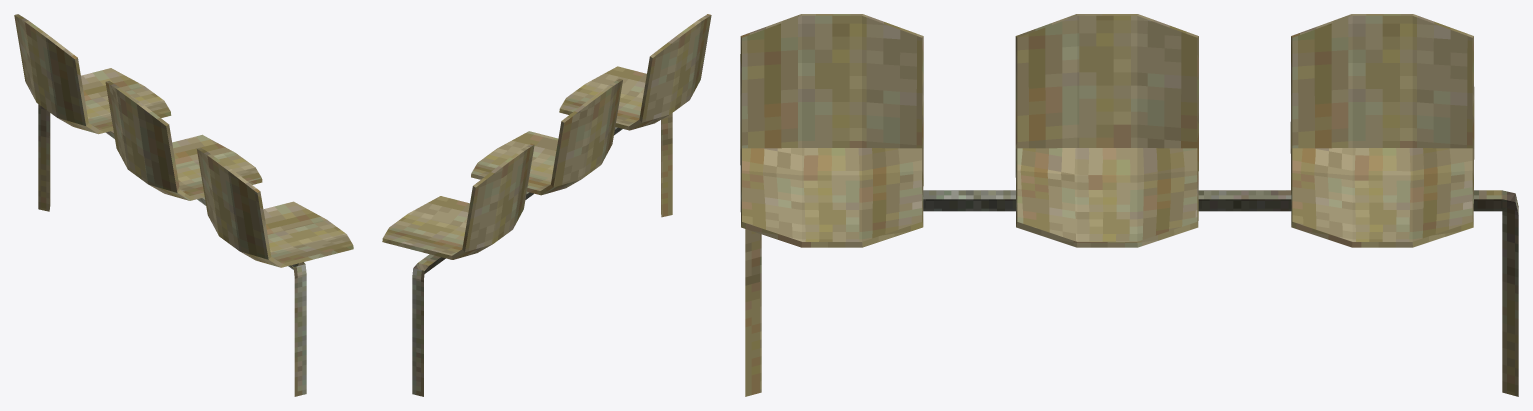
The model's file is busstop_three_seats_alt4.glb.
3 views of the same model, side by side, from view 1: azimuth 30°, elevation 25°; view 2: azimuth 150°, elevation 25°; view 3: azimuth 270°, elevation 25° (orthographic). The views are drawn at different scales.
Parts seen in each view (by area): view 1: busstop_three_seats_alt4; view 2: busstop_three_seats_alt4; view 3: busstop_three_seats_alt4.
Part boxes in pixels (bbox=[...]): busstop_three_seats_alt4: bbox=[14, 14, 353, 396]; busstop_three_seats_alt4: bbox=[382, 14, 711, 396]; busstop_three_seats_alt4: bbox=[740, 14, 1518, 396].
Size of the model in its own units: 0.692 by 1.25 by 2.6.
1 material, 1 textured.
